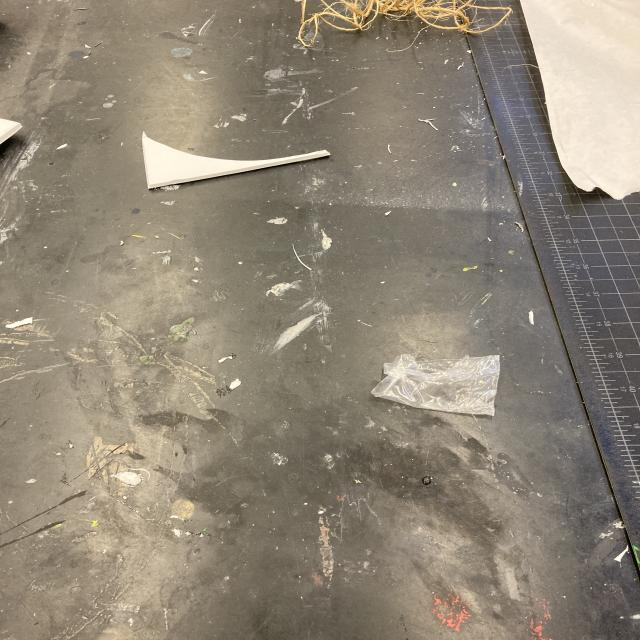plastic: (366, 350, 527, 426)
trash-zQNu: (364, 348, 528, 423)
